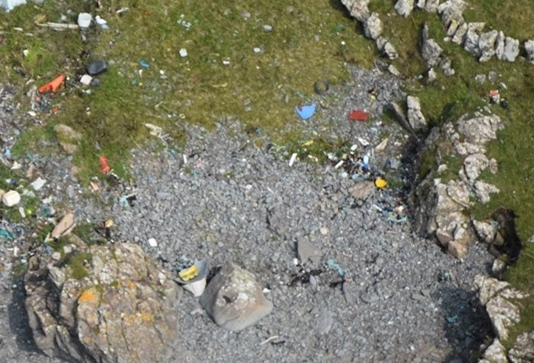scattered_barrel: (16, 5, 116, 101)
together_barrel: (1, 142, 133, 258), (289, 69, 405, 191)
white_in_green: (156, 245, 231, 311)
